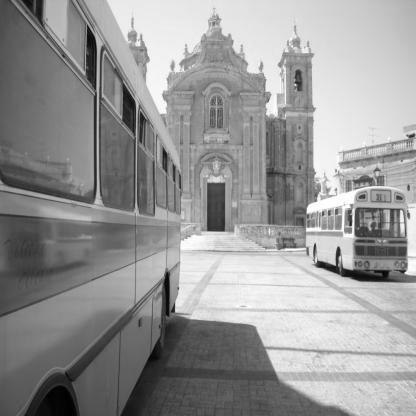bus: (292, 186, 416, 293)
